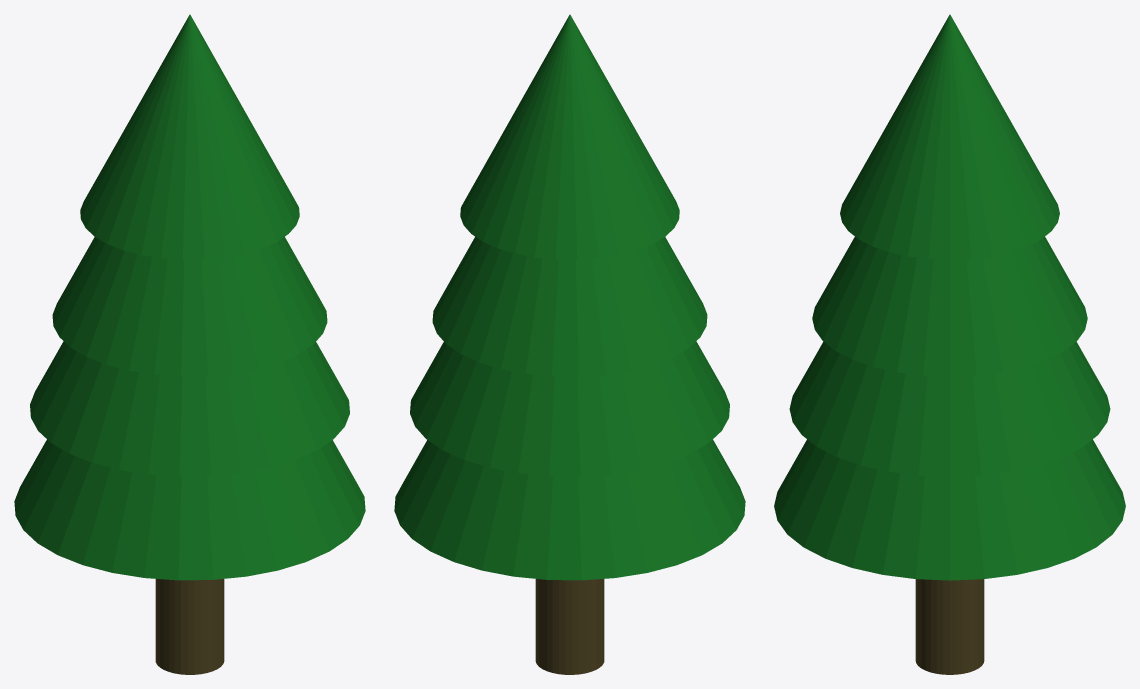
Rendered from Tree.fbx.
3 views of the same model, side by side, from view 1: azimuth 30°, elevation 25°; view 2: azimuth 150°, elevation 25°; view 3: azimuth 270°, elevation 25° (orthographic).
Visible parts, largest first — view 1: Cone.003, Cylinder; view 2: Cone.003, Cylinder; view 3: Cone.003, Cylinder.
Part boxes in pixels (x1,y1,x2,y2): Cone.003: [14, 14, 365, 580]; Cylinder: [155, 579, 224, 674]; Cone.003: [394, 14, 745, 580]; Cylinder: [535, 579, 604, 674]; Cone.003: [774, 14, 1125, 580]; Cylinder: [915, 579, 984, 674].
Size of the model in its own units: 4.79 by 9.7 by 4.79.
